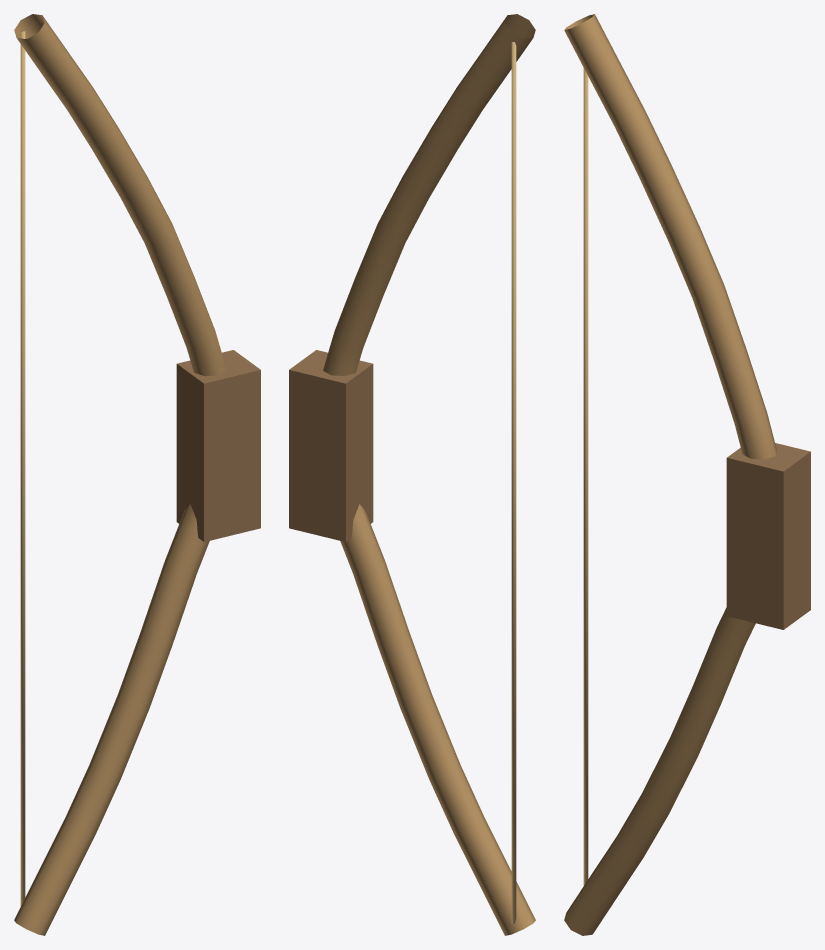
Rendered from bow_short.glb.
3 renders of one model, left to right at view 1: azimuth 30°, elevation 25°; view 2: azimuth 150°, elevation 25°; view 3: azimuth 330°, elevation 25°, orthographic.
Parts seen in each view (by area): view 1: bow_stave, bow_grip, bow_string; view 2: bow_stave, bow_grip, bow_string; view 3: bow_stave, bow_grip, bow_string.
Boxes of the visible parts, x1,y1,x2,y2 form: bow_stave: (14,14,226,935); bow_grip: (176,350,260,541); bow_string: (20,30,25,906); bow_stave: (323,14,535,935); bow_grip: (289,350,373,541); bow_string: (511,42,516,923); bow_stave: (564,14,776,935); bow_grip: (726,443,810,629); bow_string: (583,68,588,885).
Bounding box in the file's own units: 0.2439 × 0.9263 × 0.05.
